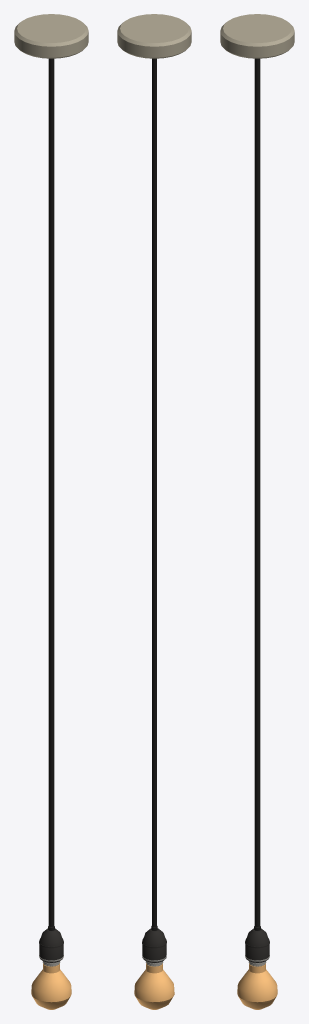
The model's file is bulb-pendant-f7a5e6457a4c.glb.
The picture shows the model from 3 angles, left to right: view 1: azimuth 90°, elevation 25°; view 2: azimuth 210°, elevation 25°; view 3: azimuth 270°, elevation 25°; orthographic projection.
Visible parts, largest first — view 1: rubber, plastic-light, emissive-warm, plastic-dark; view 2: rubber, plastic-light, emissive-warm, plastic-dark; view 3: rubber, plastic-light, emissive-warm, plastic-dark.
Part boxes in pixels (bbox=[...]): rubber: bbox=[48, 58, 54, 930]; plastic-light: bbox=[14, 14, 88, 58]; emissive-warm: bbox=[31, 963, 71, 1009]; plastic-dark: bbox=[39, 928, 63, 962]; rubber: bbox=[151, 58, 157, 930]; plastic-light: bbox=[117, 14, 191, 58]; emissive-warm: bbox=[134, 963, 174, 1009]; plastic-dark: bbox=[142, 928, 166, 962]; rubber: bbox=[254, 58, 260, 930]; plastic-light: bbox=[220, 14, 294, 58]; emissive-warm: bbox=[237, 963, 277, 1009]; plastic-dark: bbox=[245, 928, 269, 962].
Bounding box in the file's own units: 0.11 × 1.6 × 0.11.
